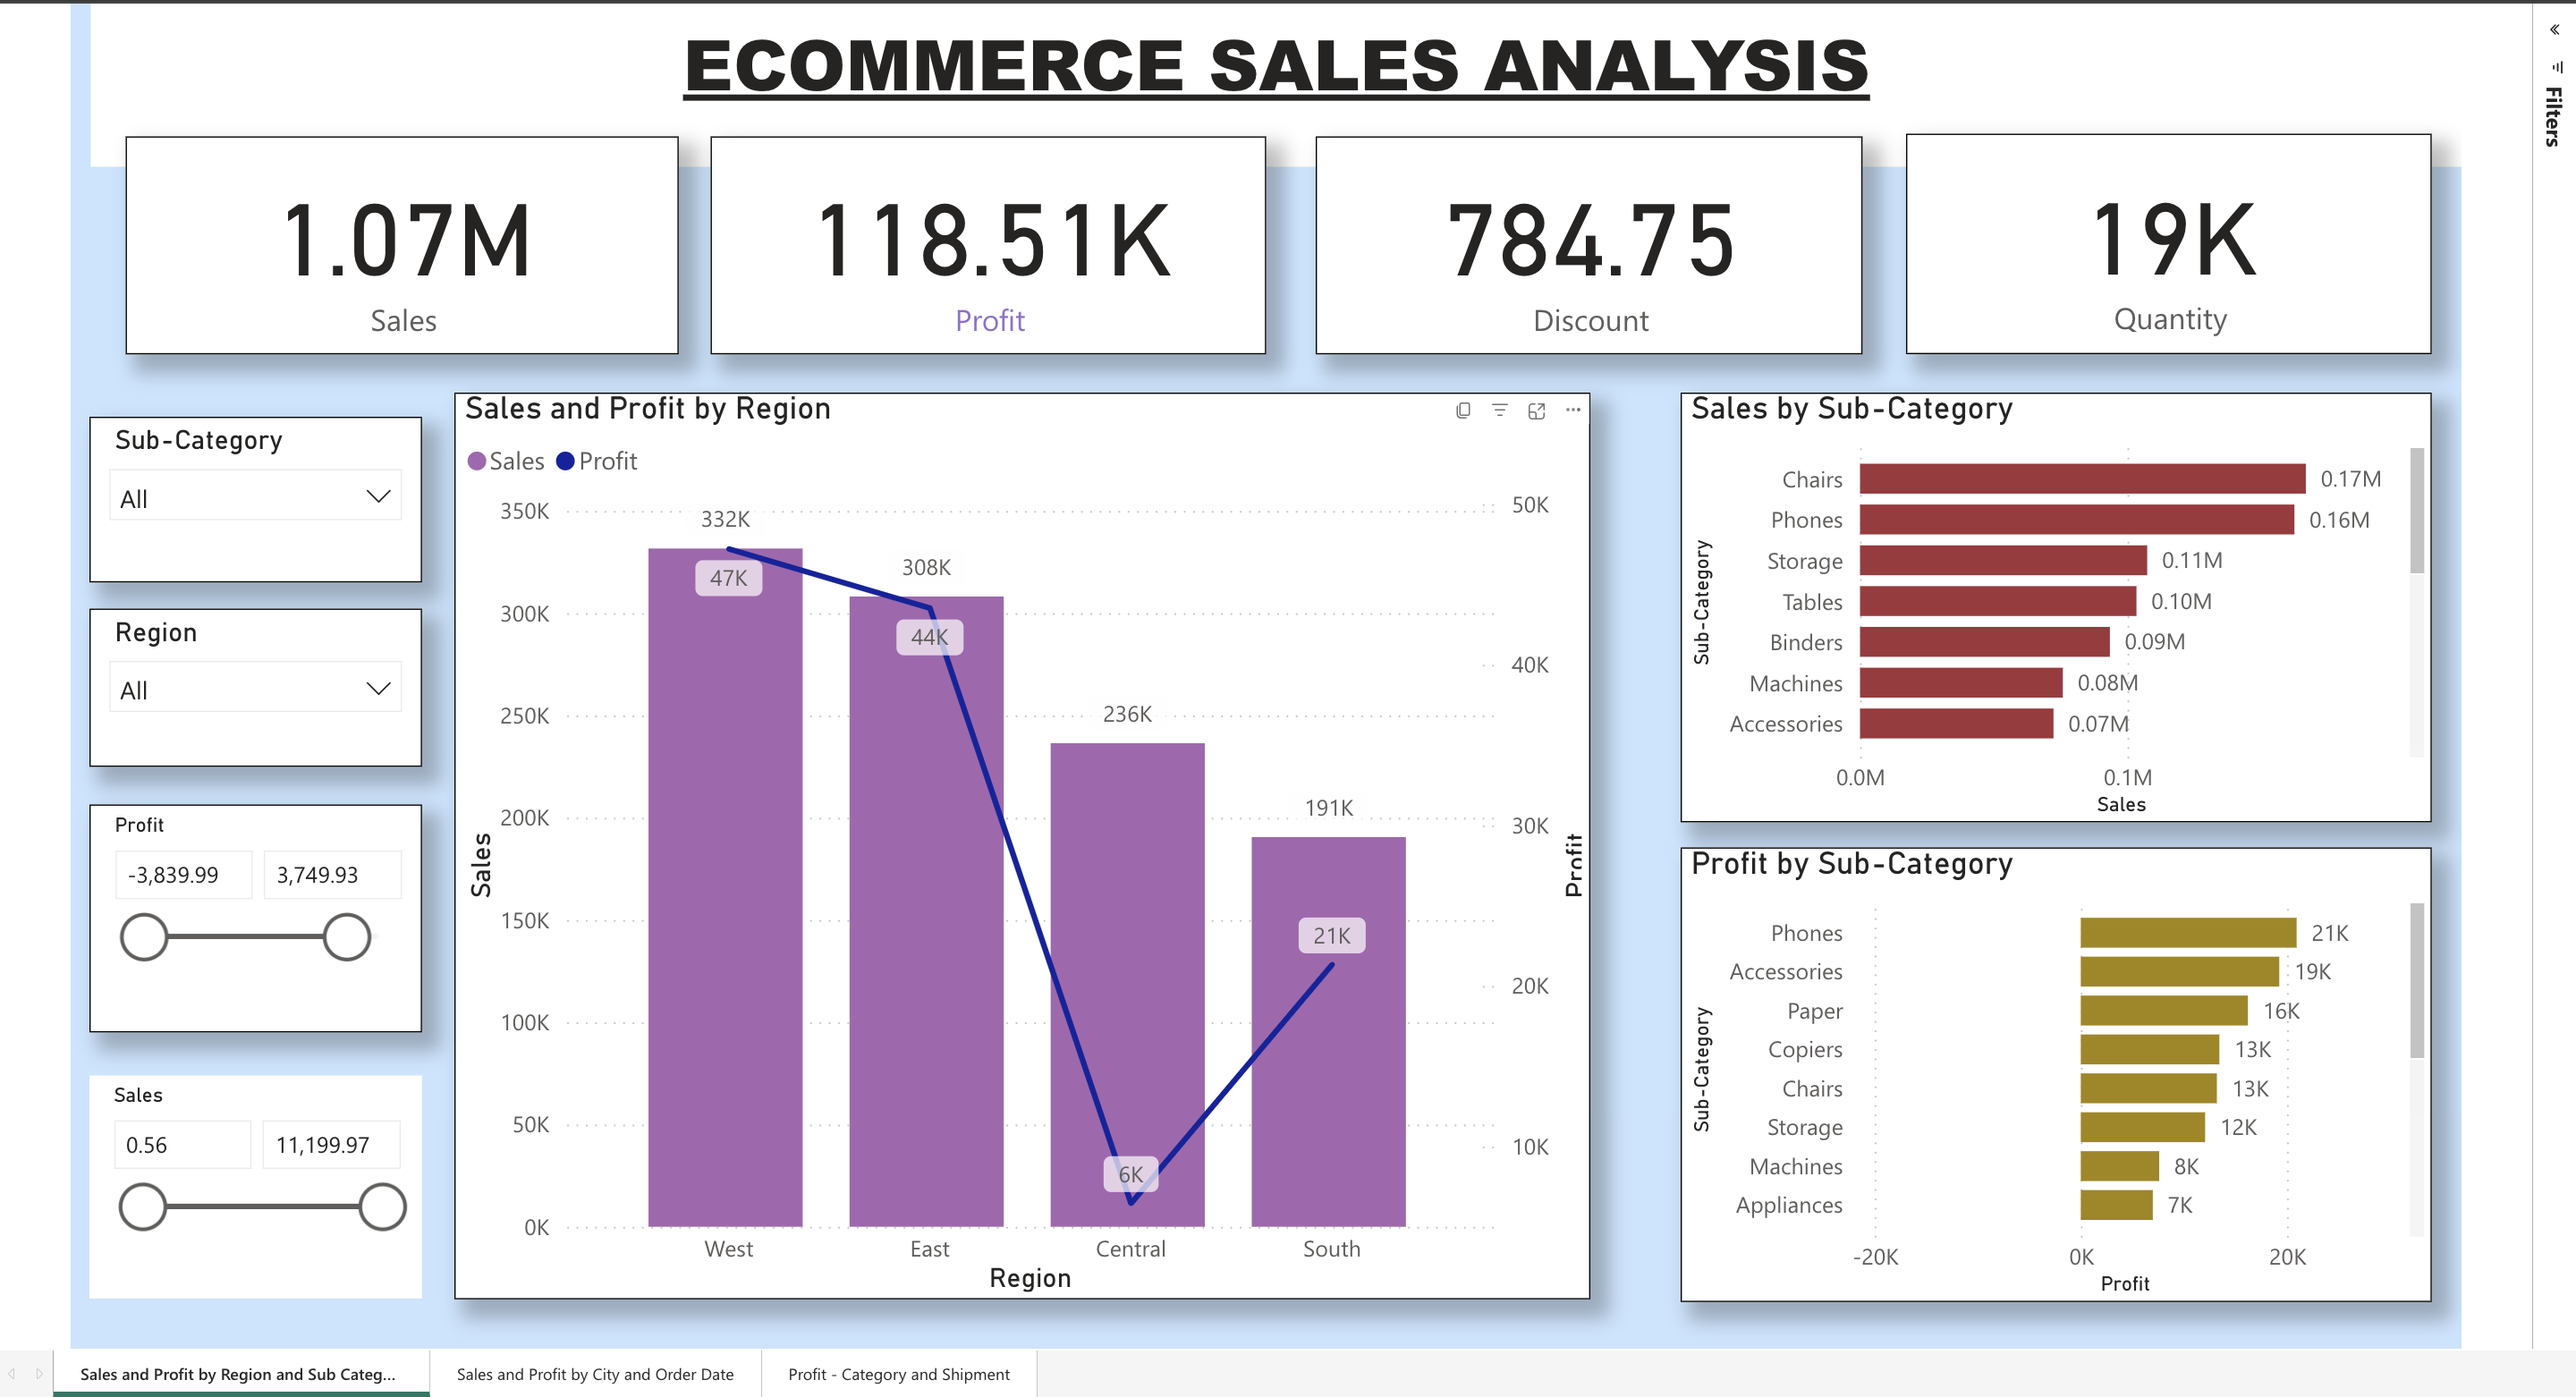

The dashboard page shown, as its layout file describes it:
{"tool":"powerbi","page":{"name":"Sales and Profit by Region and Sub Category","canvas":[1280,720],"ordinal":0},"visuals":[{"type":"textbox","box":[10.7,0,1269.3,87.3],"z":0},{"type":"card","fields":{"Values":["Sum(Sample - Superstore.Profit)"]},"box":[342.5,71.4,297.3,116.6],"z":1000},{"type":"card","fields":{"Values":["Sum(Sample - Superstore.Sales)"]},"box":[29.1,71.4,295.9,116.6],"z":2000},{"type":"card","fields":{"Values":["Sum(Sample - Superstore.Discount)"]},"box":[666.1,71.4,293,116.6],"z":3000},{"type":"card","fields":{"Values":["Sum(Sample - Superstore.Quantity)"]},"box":[982.3,70,281.3,118.1],"z":4000},{"type":"lineStackedColumnComboChart","fields":{"Y":["Sum(Sample - Superstore.Sales)"],"Category":["Sample - Superstore.Region"],"Y2":["Sum(Sample - Superstore.Profit)"]},"box":[205.5,208.4,607.8,485.3],"z":5000},{"type":"clusteredBarChart","fields":{"Y":["Sum(Sample - Superstore.Sales)"],"Category":["Sample - Superstore.Sub-Category"]},"box":[861.4,208.4,402.3,230.3],"z":6000},{"type":"clusteredBarChart","fields":{"Category":["Sample - Superstore.Sub-Category"],"Y":["Sum(Sample - Superstore.Profit)"]},"box":[861.4,451.8,402.3,243.4],"z":7000},{"type":"slicer","fields":{"Values":["Sample - Superstore.Sub-Category"]},"box":[10,220.9,177.8,88.9],"z":8000},{"type":"slicer","fields":{"Values":["Sample - Superstore.Region"]},"box":[10,324.1,177.8,84.6],"z":9000},{"type":"slicer","fields":{"Values":["Sample - Superstore.Profit"]},"box":[10,428.8,177.8,121.9],"z":10000},{"type":"slicer","fields":{"Values":["Sample - Superstore.Sales"]},"box":[10,573.7,177.8,119],"z":11000}]}

Visuals, with their boxes on the page's 1280x720 design canvas (x1, y1, x2, y2). These are canvas units, not pixel positions in the 2576x1397 screenshot, which may show the page scaled, cropped or inside an application window:
textbox: BBox(11, 0, 1280, 87)
card - Sum(Sample - Superstore.Profit): BBox(342, 71, 640, 188)
card - Sum(Sample - Superstore.Sales): BBox(29, 71, 325, 188)
card - Sum(Sample - Superstore.Discount): BBox(666, 71, 959, 188)
card - Sum(Sample - Superstore.Quantity): BBox(982, 70, 1264, 188)
lineStackedColumnComboChart - Sum(Sample - Superstore.Sales) x Sample - Superstore.Region: BBox(206, 208, 813, 694)
clusteredBarChart - Sum(Sample - Superstore.Sales) x Sample - Superstore.Sub-Category: BBox(861, 208, 1264, 439)
clusteredBarChart - Sample - Superstore.Sub-Category x Sum(Sample - Superstore.Profit): BBox(861, 452, 1264, 695)
slicer - Sample - Superstore.Sub-Category: BBox(10, 221, 188, 310)
slicer - Sample - Superstore.Region: BBox(10, 324, 188, 409)
slicer - Sample - Superstore.Profit: BBox(10, 429, 188, 551)
slicer - Sample - Superstore.Sales: BBox(10, 574, 188, 693)
